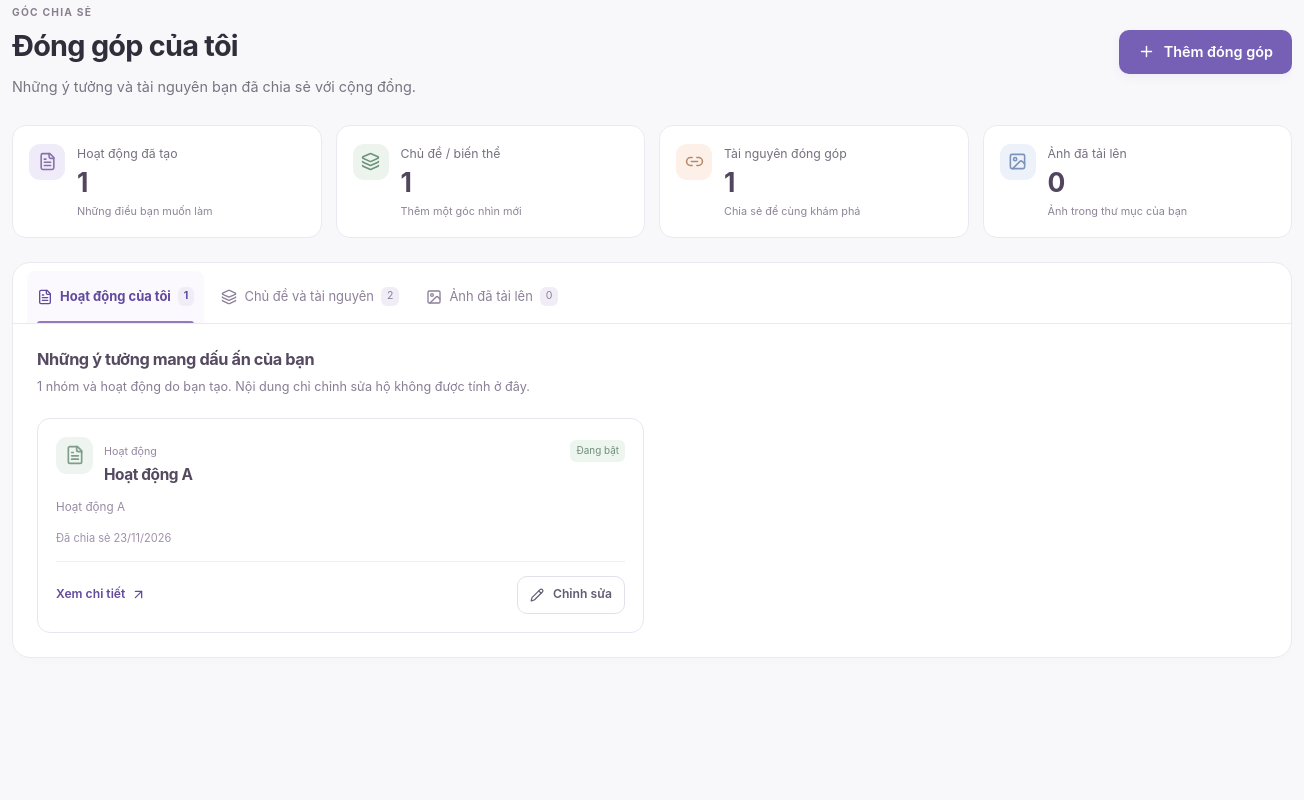
Test: Trang đóng góp cá nhân › thống kê và danh sách chỉ tính tác giả gốc, không tính nội dung sửa hộ
The image size is (1304, 800).
expect the text "Ảnh đã tải lên" in the row of "Tài nguyên đóng góp" is shown: met, box [1048,146,1127,161]
expect the text "1" below "Hoạt động đã tạo" is shown: met, box [77,166,88,198]
Click the tab "Chủ đề và tài nguyên 2" at (310, 297), box [211,271,409,323]
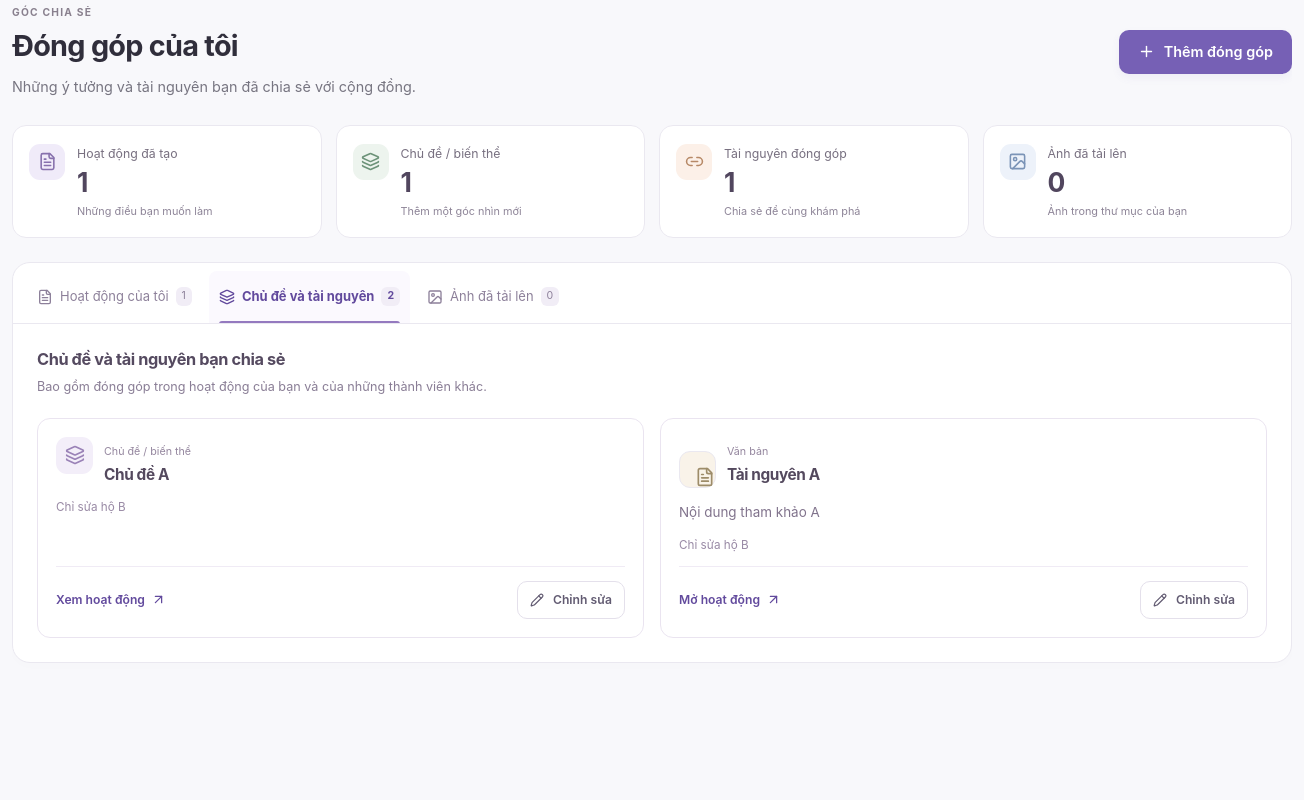
expect the heading "Chủ đề A" is shown: met, box [104,465,169,484]
expect the heading "Tài nguyên A" is shown: met, box [727,465,820,484]
